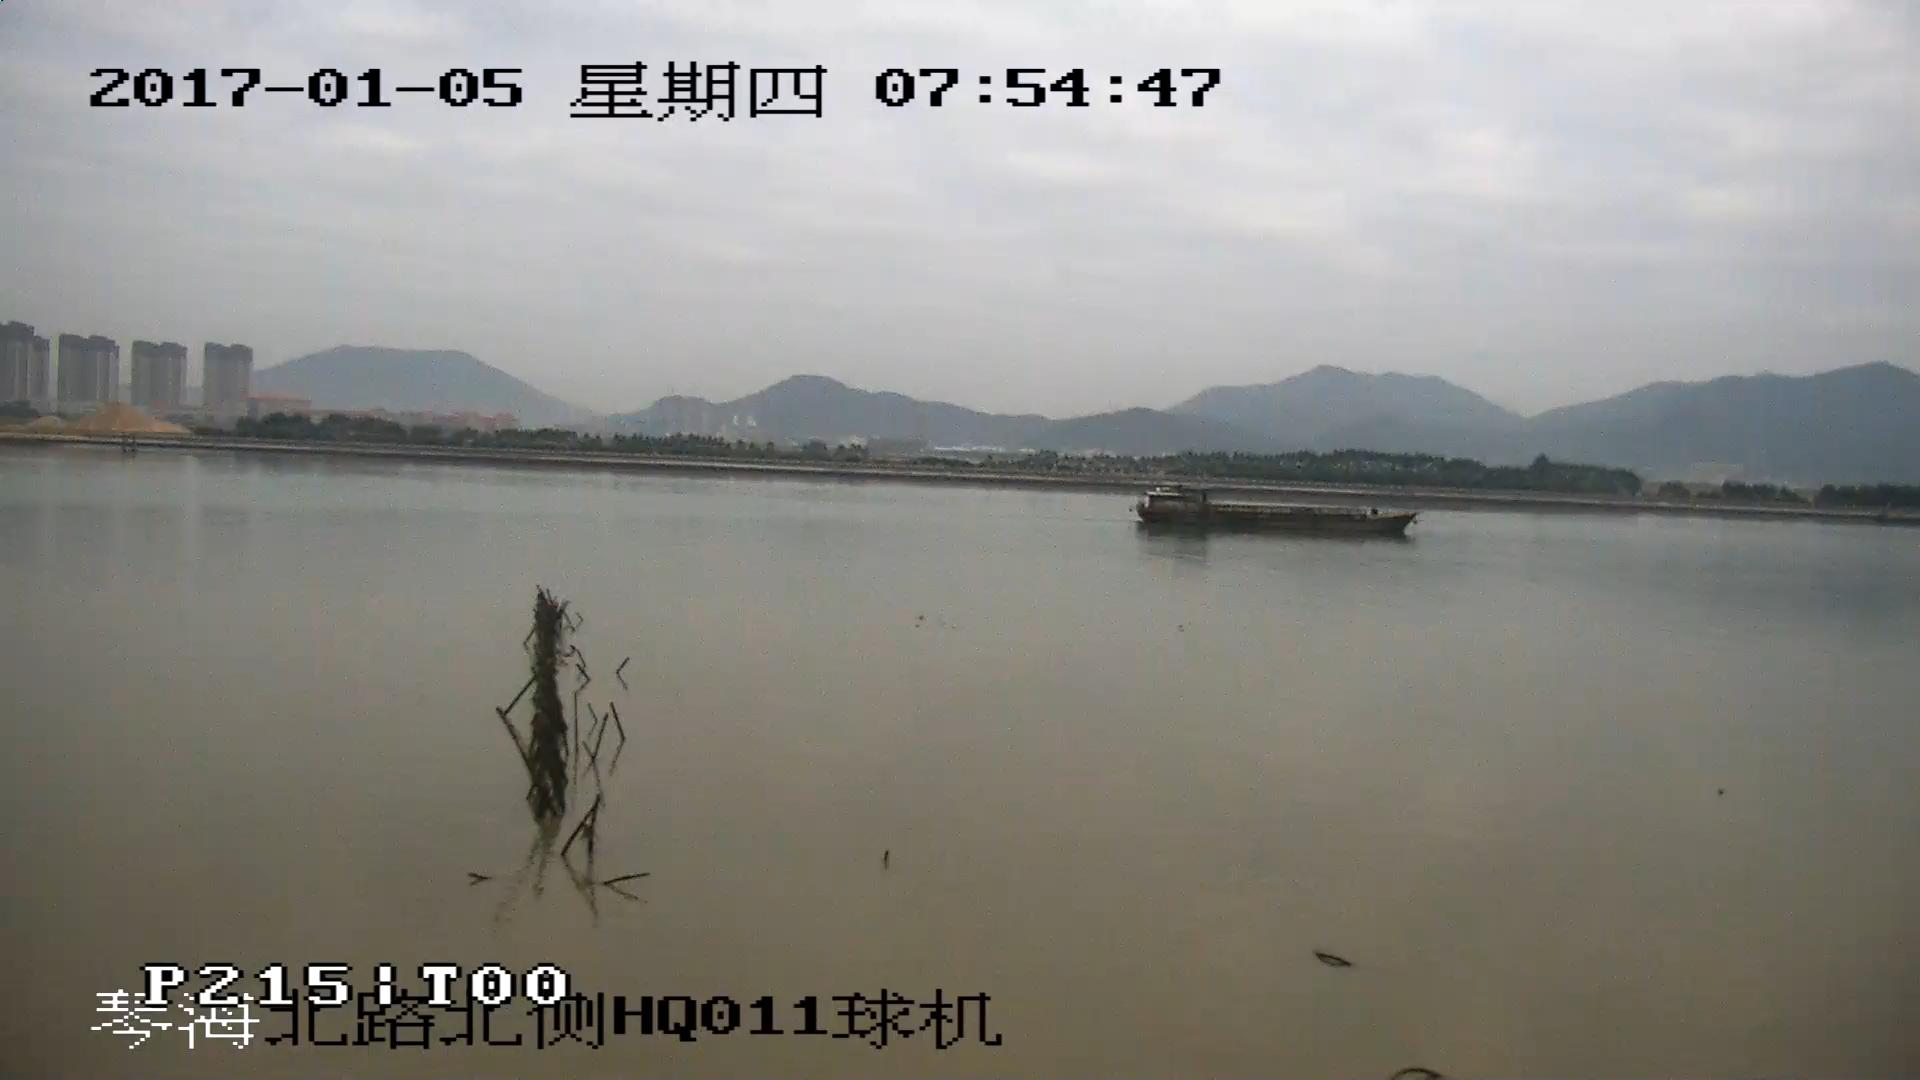bulk cargo carrier: (1134, 483, 1419, 536)
